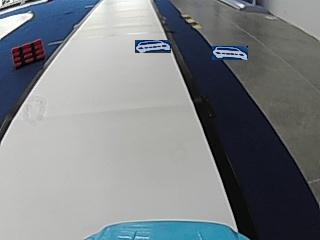bomb: (10, 37, 44, 68)
